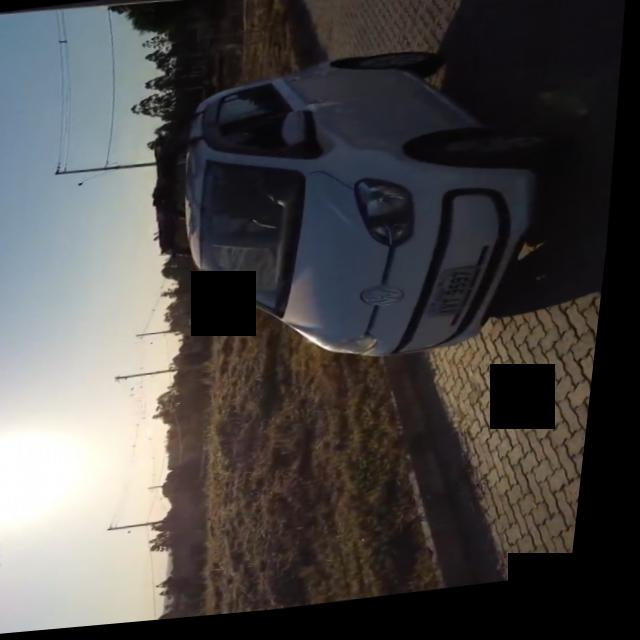Vehicle: (131, 35, 600, 393)
